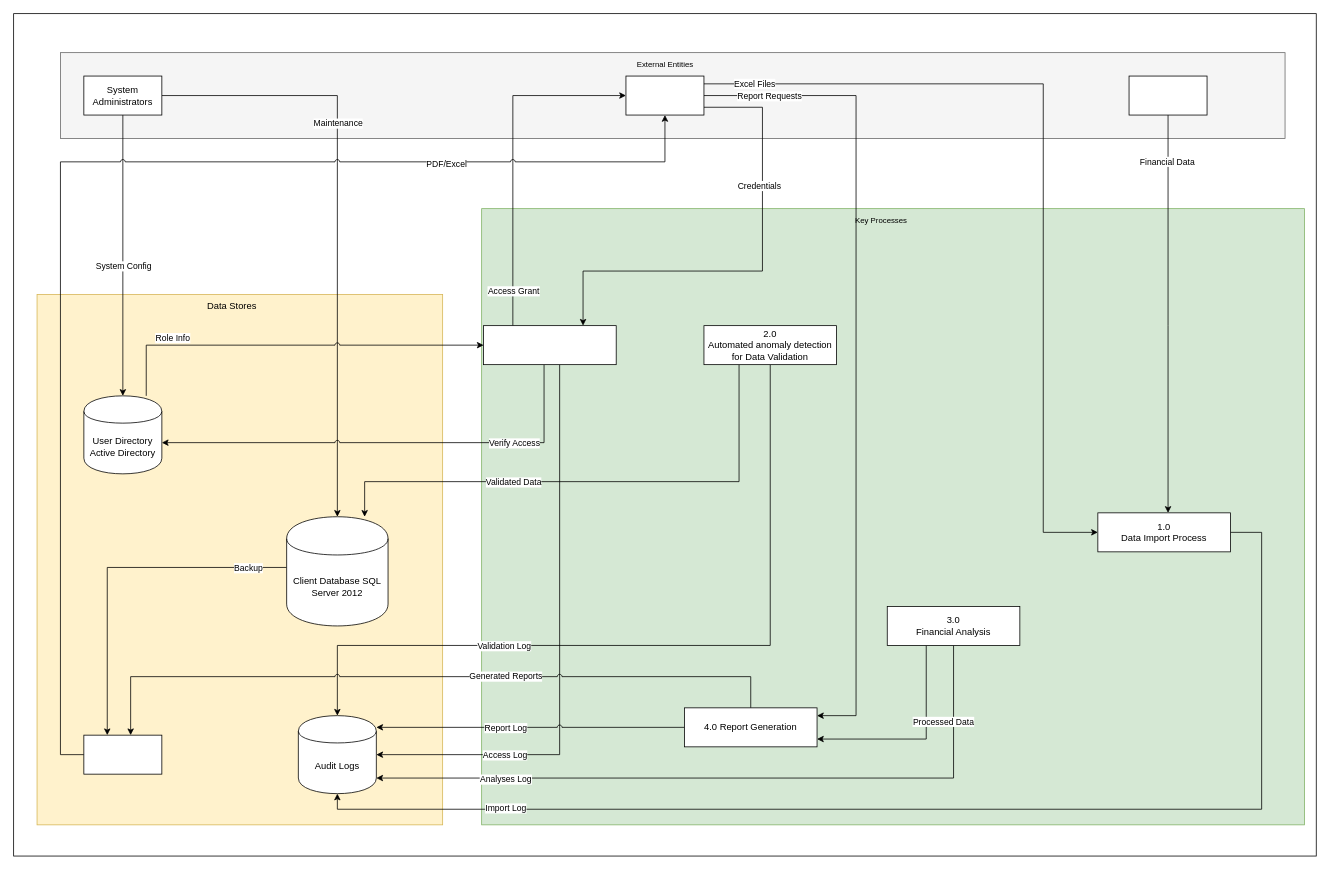
Some shapes in this 1330 by 870 pixel diagram are drawn without their labels. Here are the shapes that lost their labels. From the top down, the box of each, then its label:
(625, 75, 704, 115): Financial Analysts
(1128, 75, 1207, 115): Client Companies
(483, 325, 616, 365): 5.0 Multi-Factor Authentication (MFA) for User Authentication
(83, 734, 162, 774): Secure Data Exchange API
